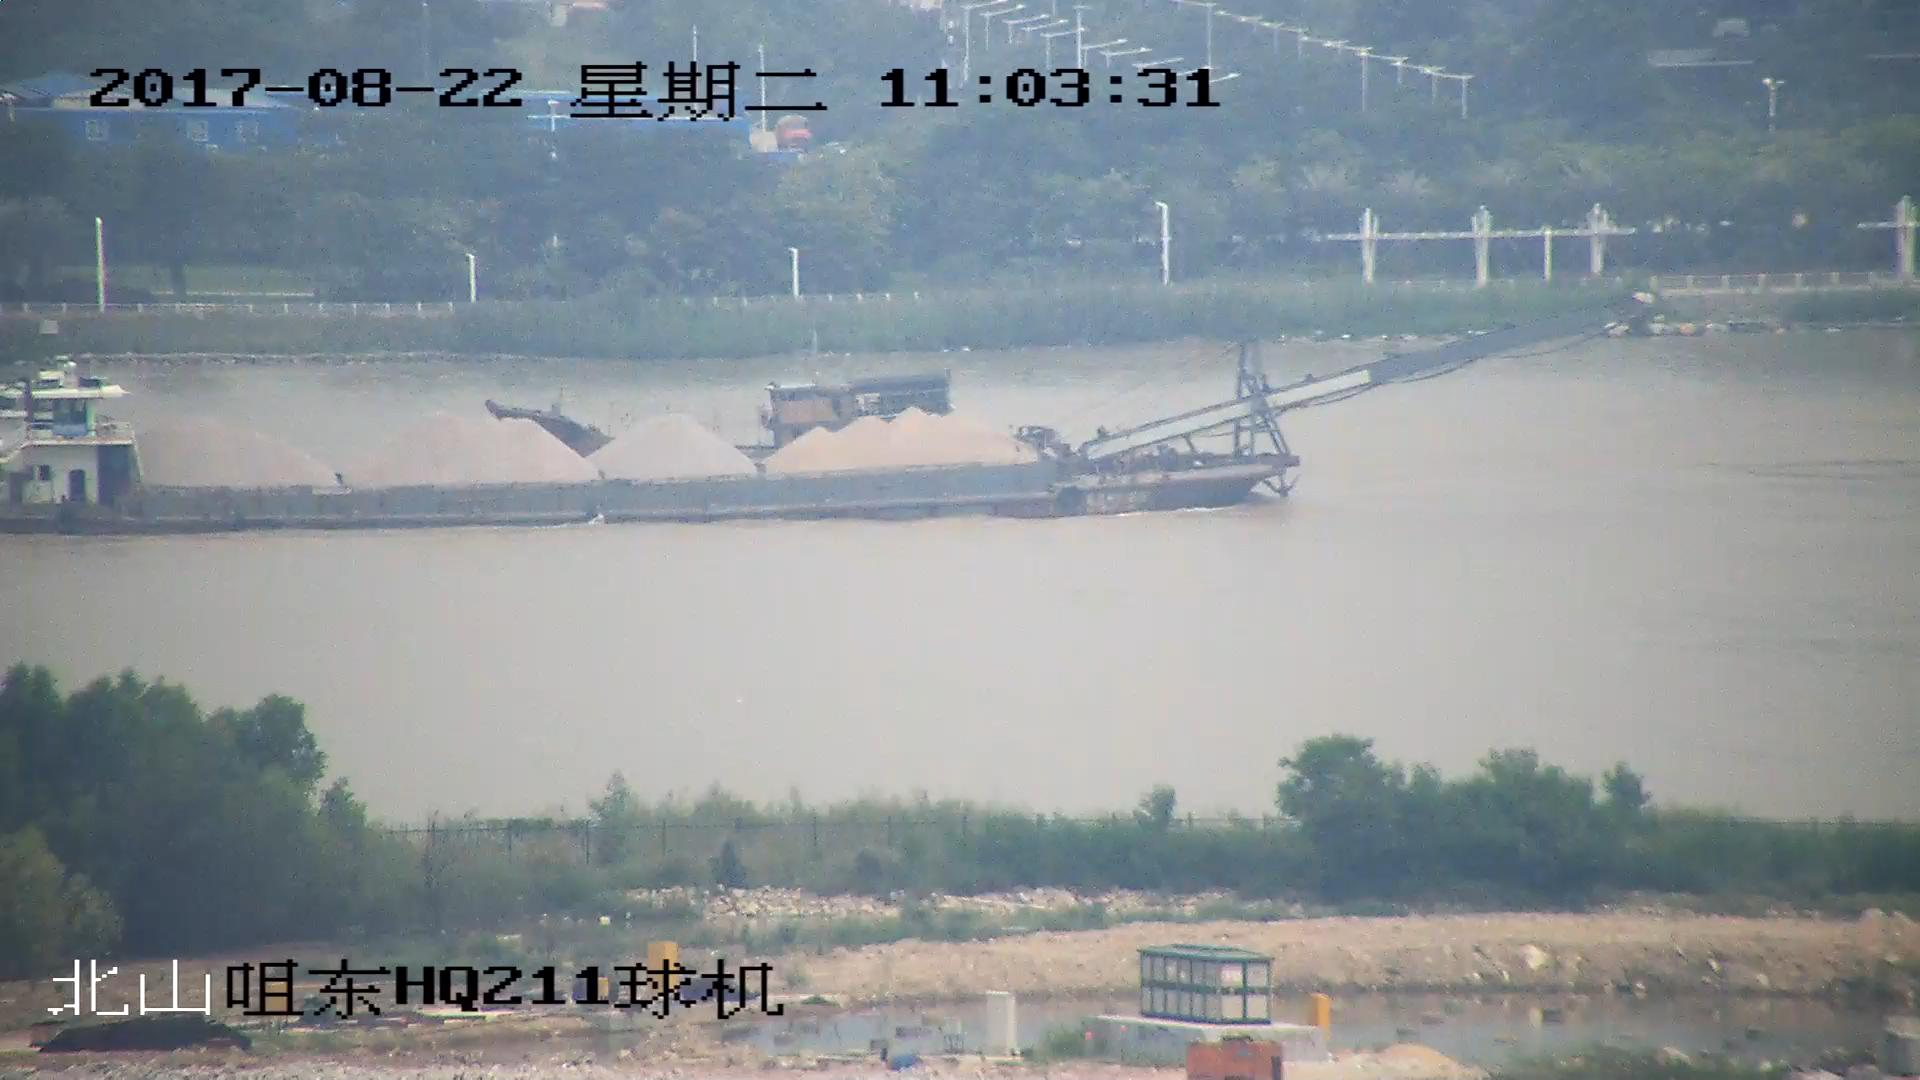fishing boat: (491, 376, 963, 458)
ore carrier: (1, 299, 1646, 535)
